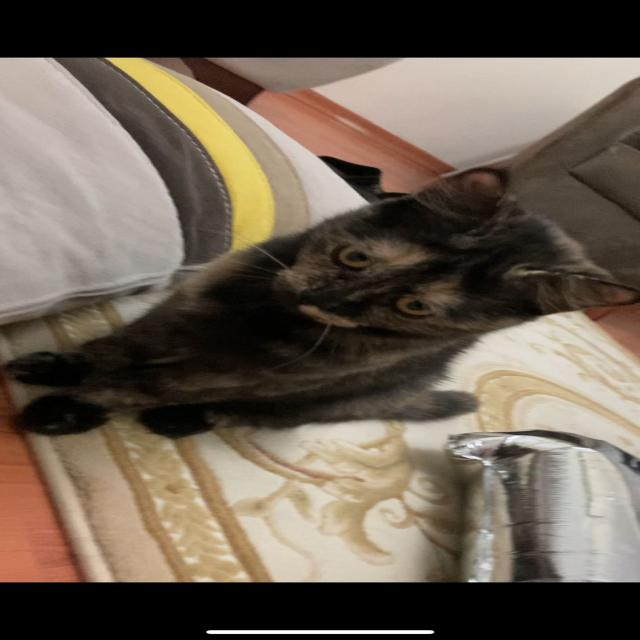authorized: (5, 154, 637, 440)
